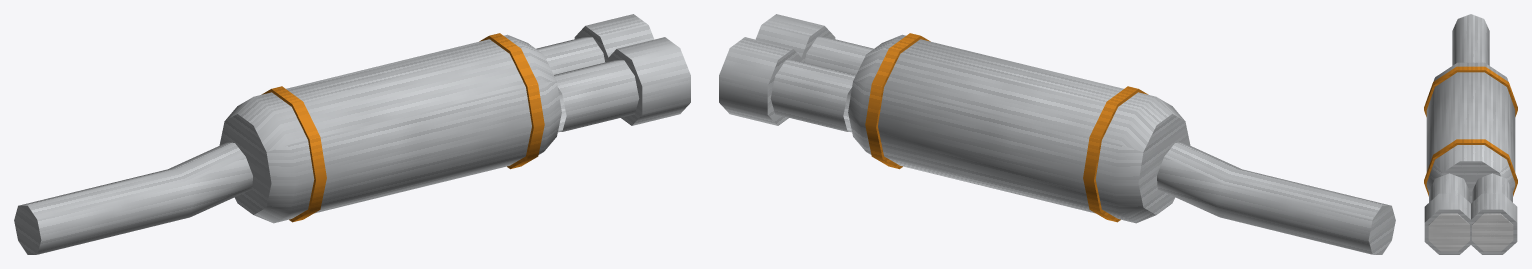
Rendered from escape_n3.glb.
3 views of the same model, side by side, from view 1: azimuth 30°, elevation 25°; view 2: azimuth 150°, elevation 25°; view 3: azimuth 270°, elevation 25° (orthographic). The views are drawn at different scales.
Parts seen in each view (by area): view 1: escape_n3; view 2: escape_n3; view 3: escape_n3.
Part boxes in pixels (left/top/right/bottom): escape_n3: left=14, top=14, right=690, bottom=254; escape_n3: left=719, top=14, right=1395, bottom=254; escape_n3: left=1424, top=14, right=1517, bottom=254.
Size of the model in its own units: 1.04 by 0.1864 by 0.196.
2 materials, 2 textured.
